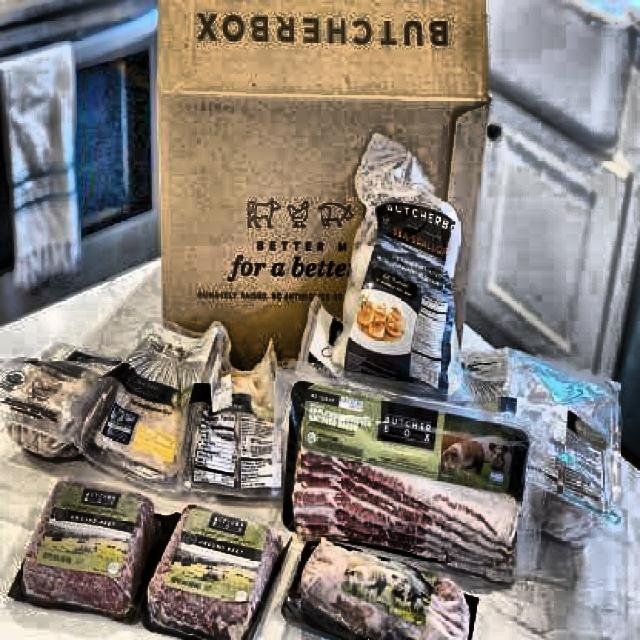Cardbox: (143, 0, 499, 375)
